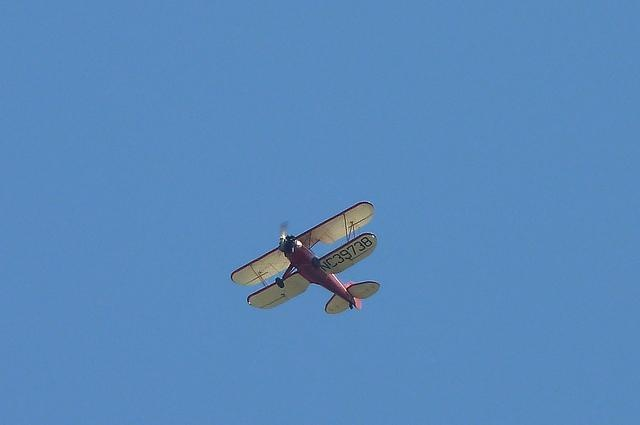airplane: (227, 199, 389, 316)
